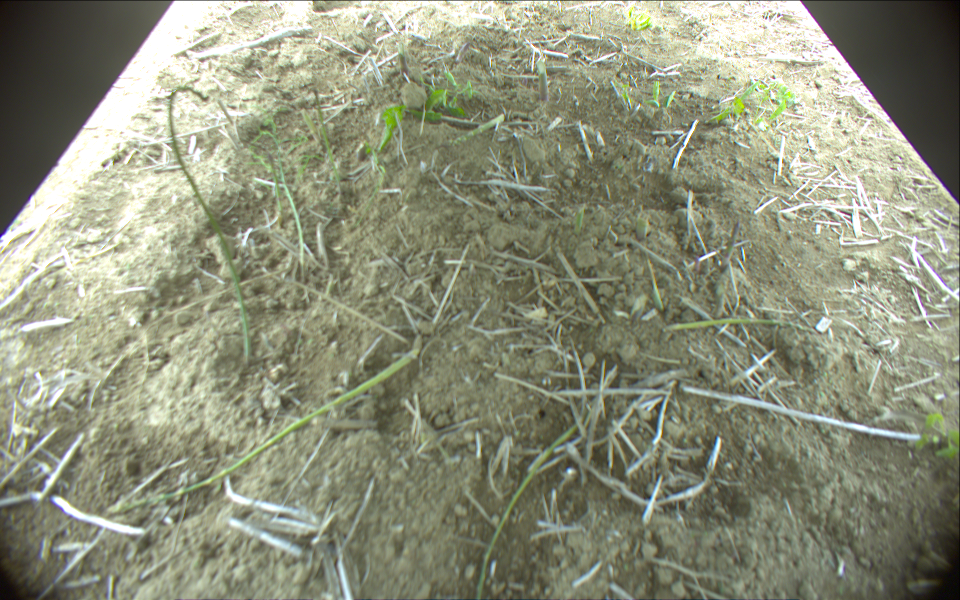aspa: (108, 350, 421, 516), (162, 84, 249, 359), (471, 415, 588, 600), (313, 84, 346, 201), (662, 311, 823, 334), (451, 113, 504, 146), (529, 64, 549, 106)
